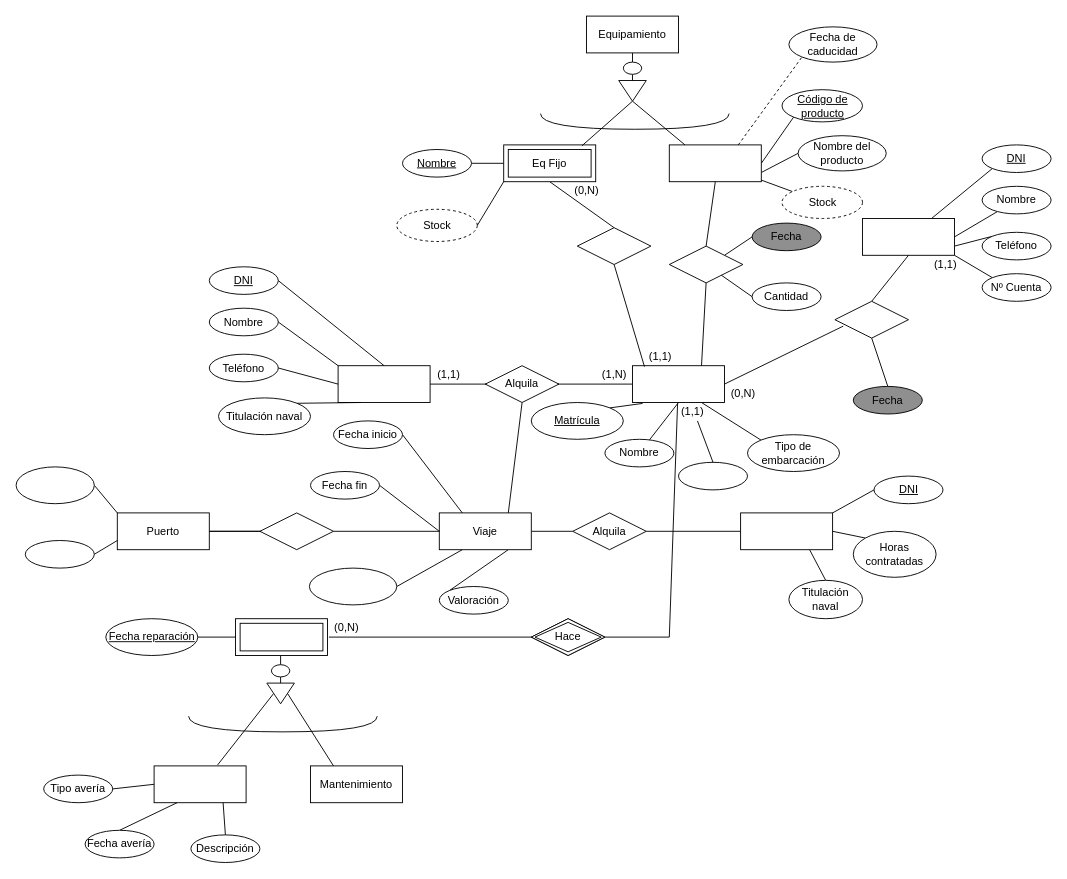
The diagram is 1067 pixels wide and 879 high, and some of its shapes have lost their labels. The centre of each missing label's shape, as x and y in pixels:
Antigüedad: (x=713, y=475)
Aprovisiona: (x=705, y=264)
Avería: (x=199, y=784)
Ayudante: (x=786, y=531)
Barco: (x=678, y=383)
Cliente: (x=383, y=383)
Código de viaje: (x=352, y=586)
Gestiona: (x=871, y=319)
Nombre puerto: (x=54, y=485)
Pasa por: (x=296, y=531)
Pertenece: (x=613, y=245)
Propietario: (x=908, y=236)
Provisional: (x=714, y=163)
Reparación: (x=281, y=637)
Ubicación: (x=59, y=554)
